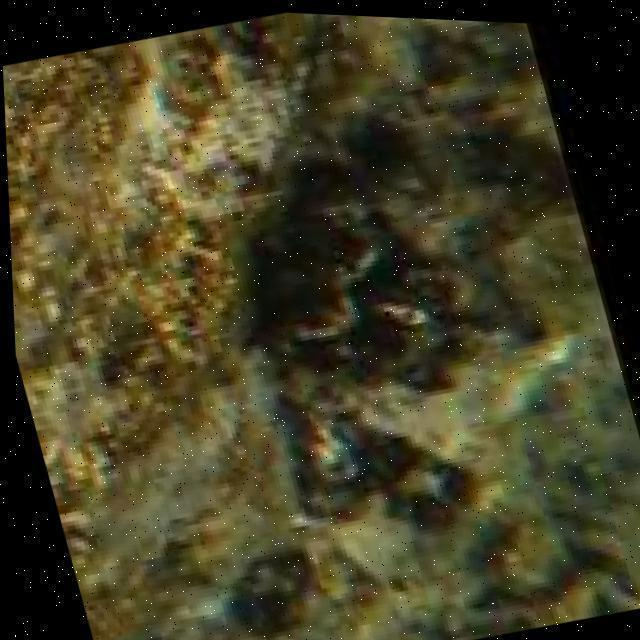Dead Coral: (228, 55, 558, 487)
